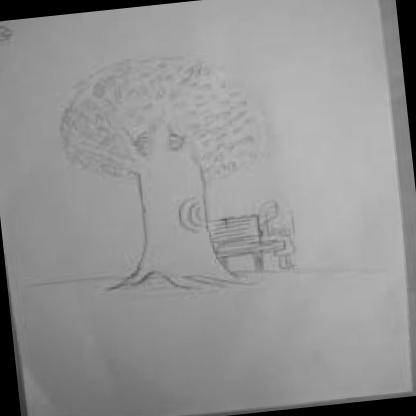branch_cut: (76, 100, 228, 171)
crown_mushroom: (52, 46, 278, 196)
root_upside: (100, 250, 254, 322)
trunk_straight: (135, 177, 212, 251)
